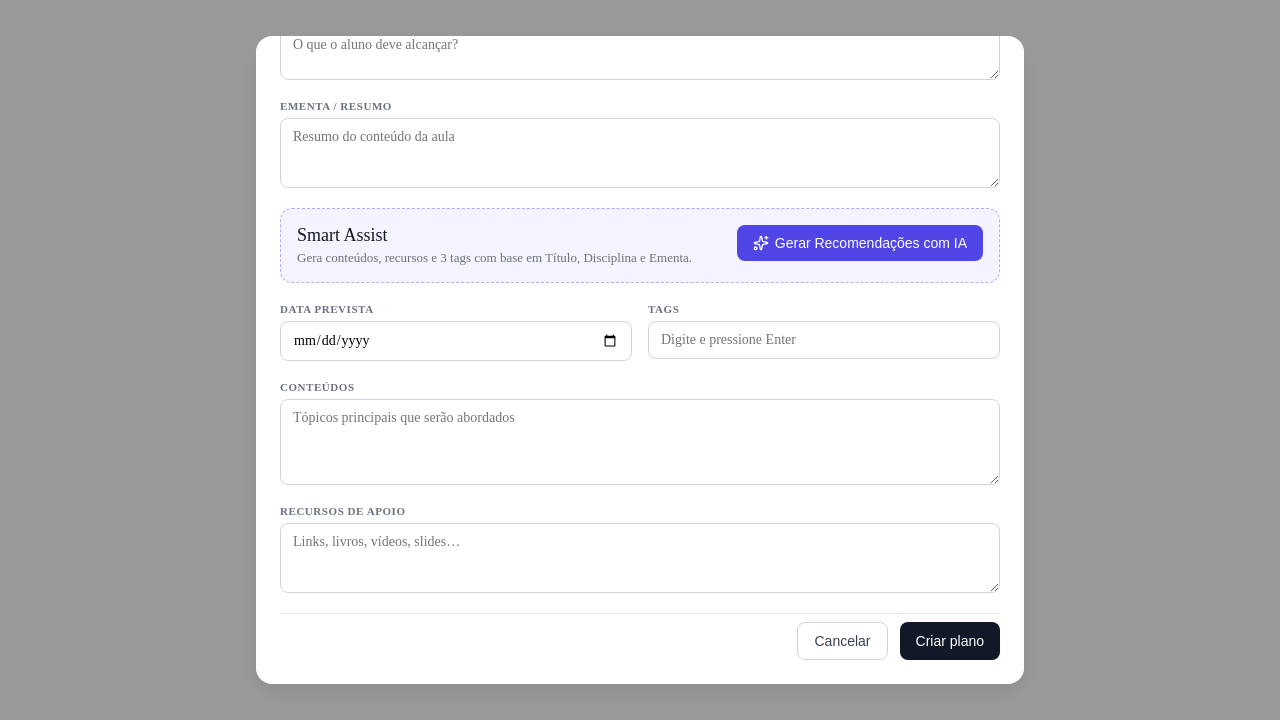
Test: Testes de LessonPlanForm › CT-05: Deve mostrar mensagens de erro ao tentar salvar com campos obrigatórios vazios
(page scrolled)
Click the button "Criar plano".
click(950, 641)  # box [900,622,1000,660]
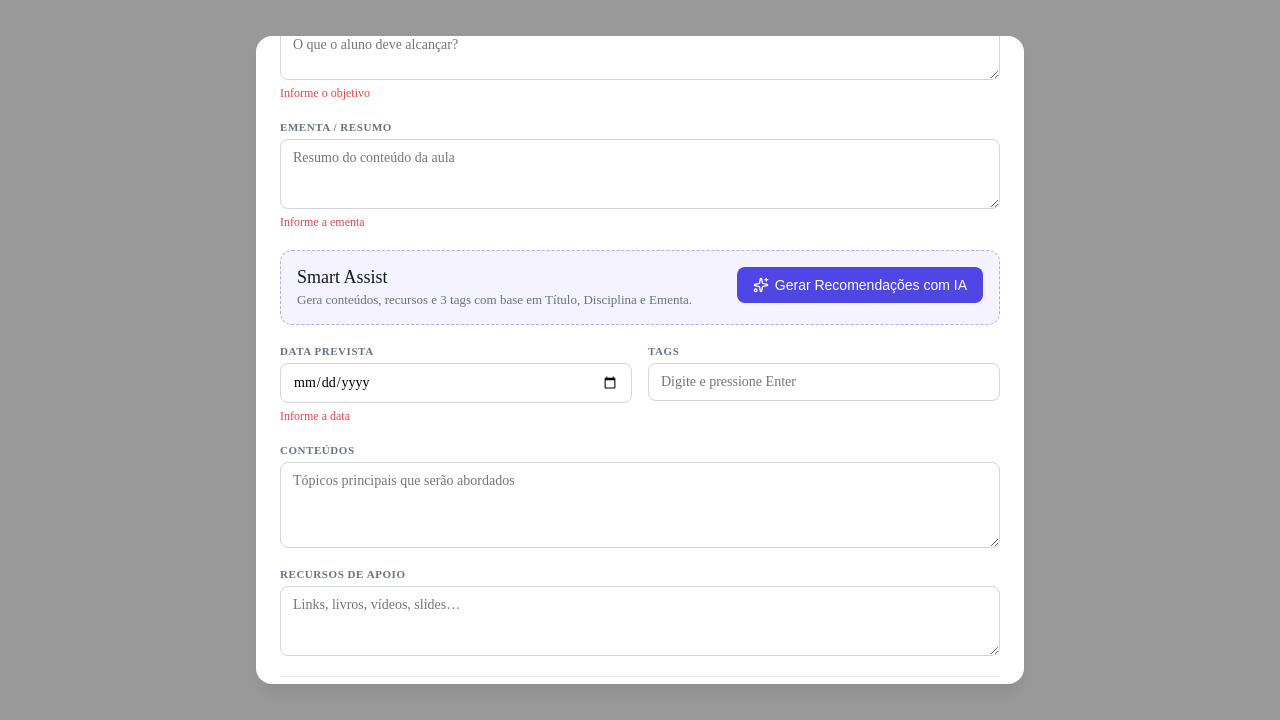
Check: the text "Informe o objetivo" is shown, box [280,86,370,100]
Check: the text "Informe a ementa" is shown, box [280,215,365,229]
Check: the text "Informe a data" is shown, box [280,409,350,423]
